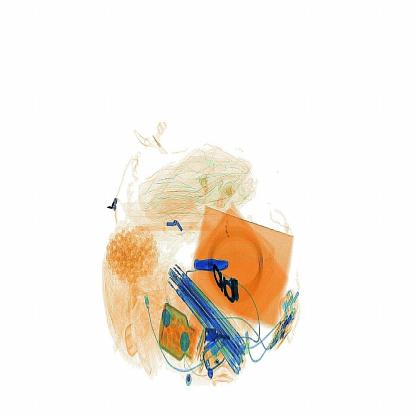knife: (194, 251, 234, 276)
